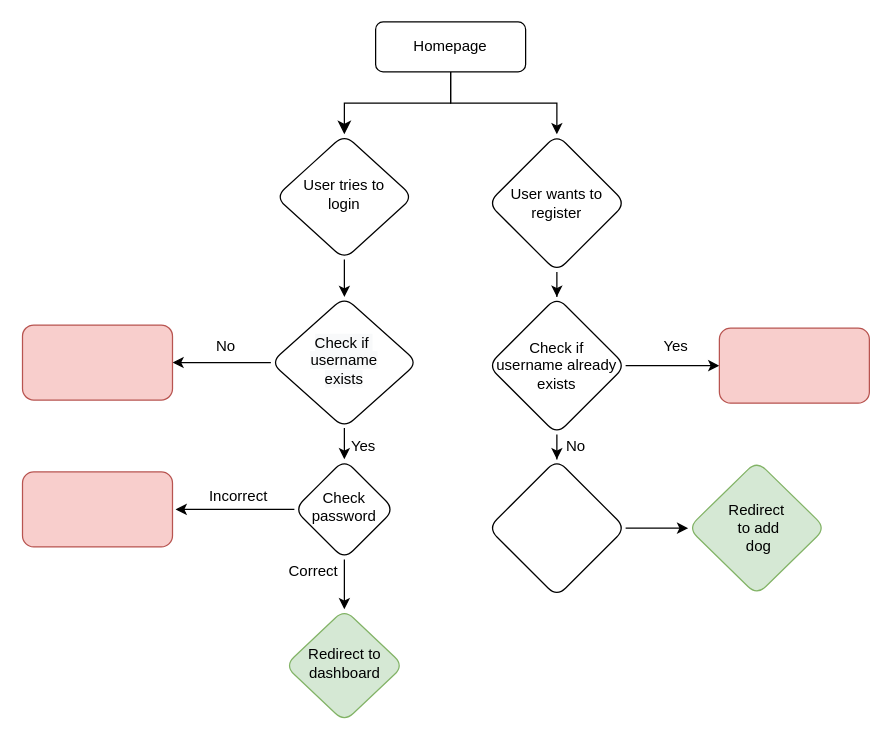
Image size: 891x744. Some labels were removed from this diagram. The shapes that lost their labels are listed below. From the top down, each one's centre as x and y in pixels, then its label:
(x=96, y=362): "Username does not exist"
(x=793, y=365): "Username already exists"
(x=96, y=509): "Incorrect username and/or password combination"
(x=556, y=527): Get username & password and store in db
